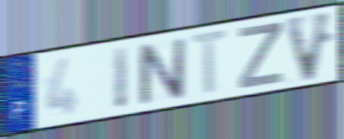4: (43, 54, 82, 119)
I: (111, 43, 130, 112)
N: (135, 36, 188, 108)
T: (189, 26, 233, 99)
V: (283, 9, 336, 85)
Z: (237, 20, 285, 91)
